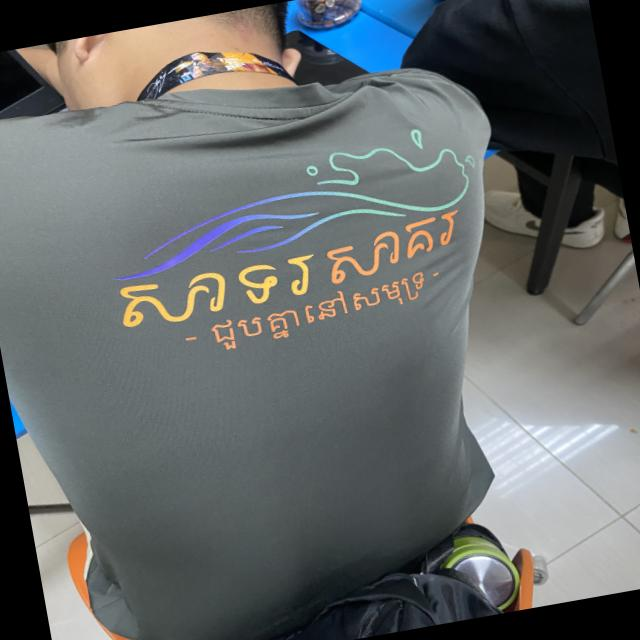Yolov11kh: (109, 205, 462, 352), (210, 262, 432, 360)
